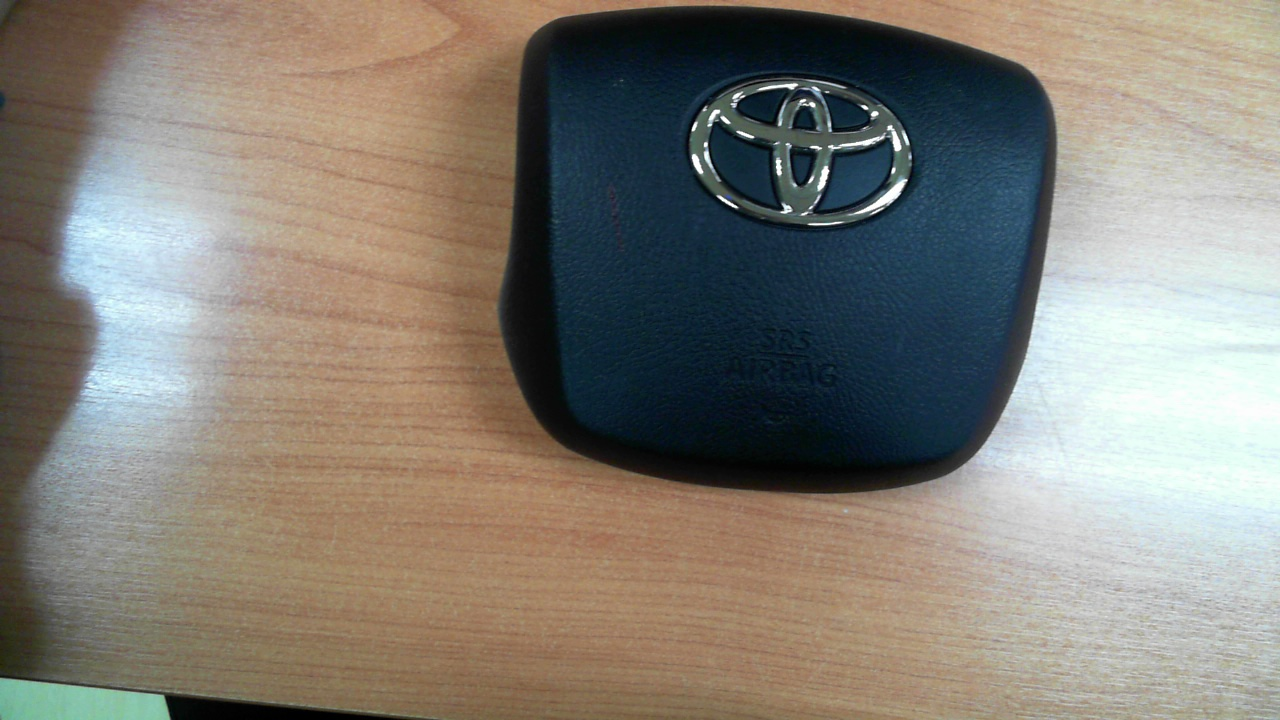Airbag: (495, 7, 1057, 490)
Toyota: (688, 77, 913, 227)
